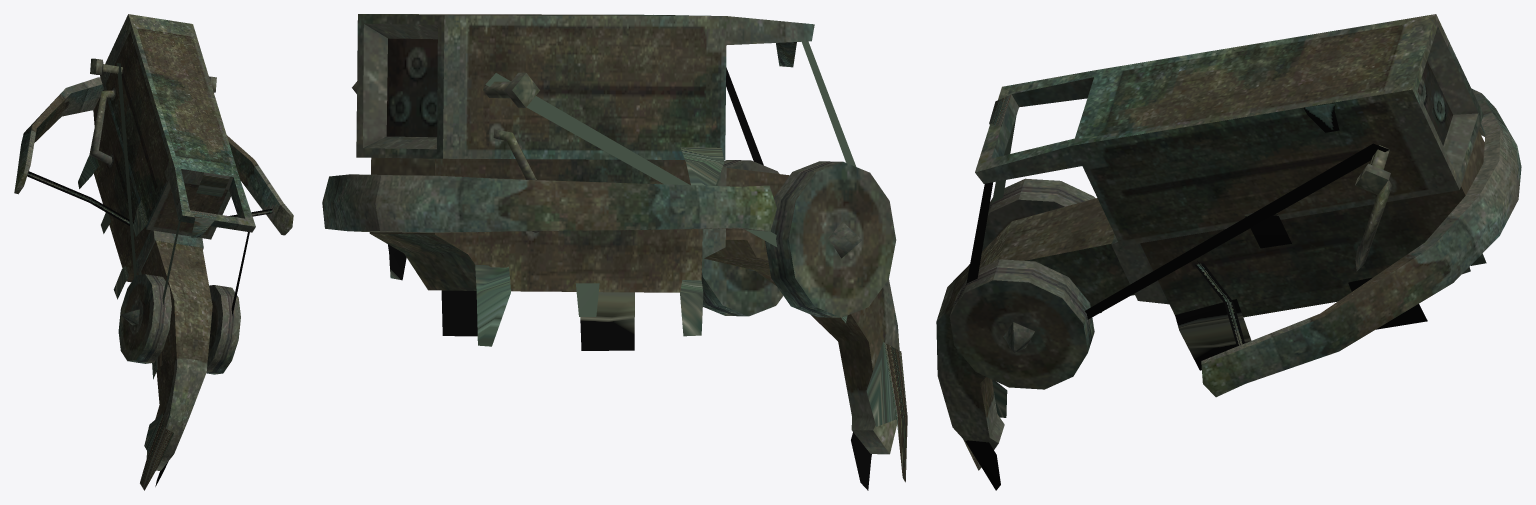
Rendered from msh.glb.
The picture shows the model from 3 angles, left to right: view 1: azimuth 30°, elevation 25°; view 2: azimuth 150°, elevation 25°; view 3: azimuth 270°, elevation 25°; orthographic projection. The views are drawn at different scales.
Visible parts, largest first — view 1: mesh_423, mesh_424; view 2: mesh_423, mesh_424; view 3: mesh_423, mesh_424.
Part boxes in pixels (box(x1,y1,x2,y2)): mesh_423: box(14, 14, 293, 470); mesh_424: box(78, 63, 249, 490); mesh_423: box(322, 14, 899, 454); mesh_424: box(388, 15, 907, 490); mesh_423: box(936, 14, 1521, 449); mesh_424: box(963, 94, 1486, 490).
Bounding box in the file's own units: 4.1 × 5.58 × 5.25.
2 materials, 2 textured.
